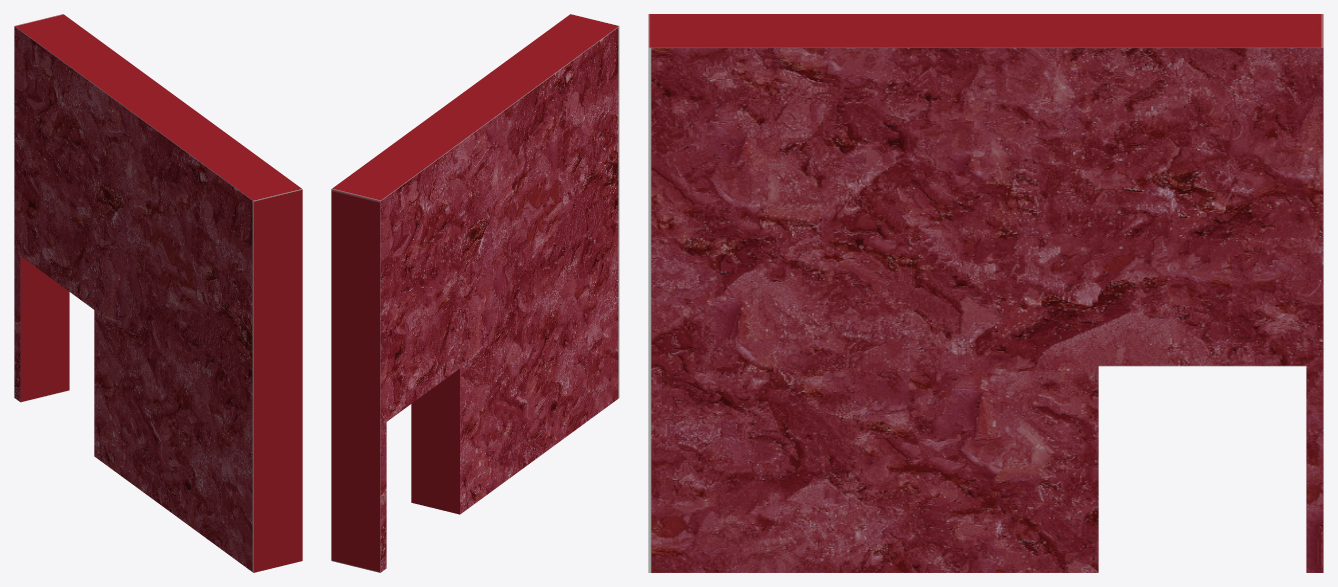
File: WallLeft.FBX
3 renders of one model, left to right at view 1: azimuth 30°, elevation 25°; view 2: azimuth 150°, elevation 25°; view 3: azimuth 270°, elevation 25°, orthographic. The views are drawn at different scales.
Parts seen in each view (by area): view 1: Object001; view 2: Object001; view 3: Object001.
Part boxes in pixels (<box>): Object001: <box>14,14,302,572</box>; Object001: <box>331,14,619,572</box>; Object001: <box>648,14,1323,572</box>.
Bounding box in the file's own units: 3.66 × 26.57 × 30.96.
